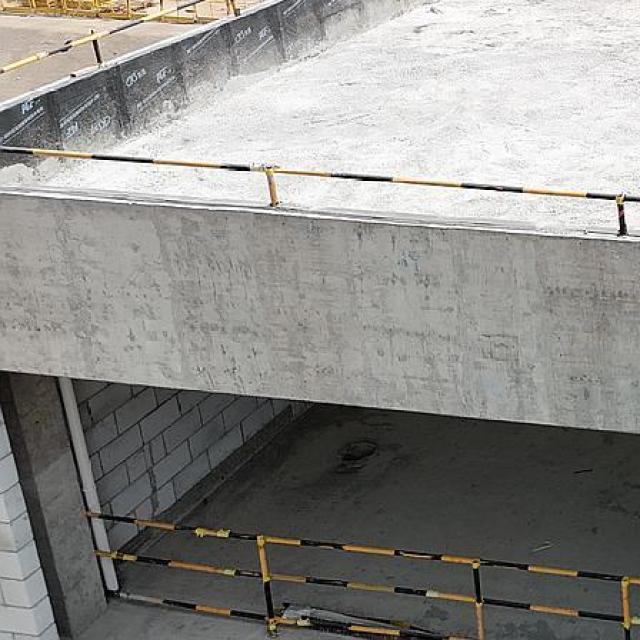edge_guardrail: (84, 508, 639, 640), (0, 143, 640, 234), (1, 0, 238, 74)
